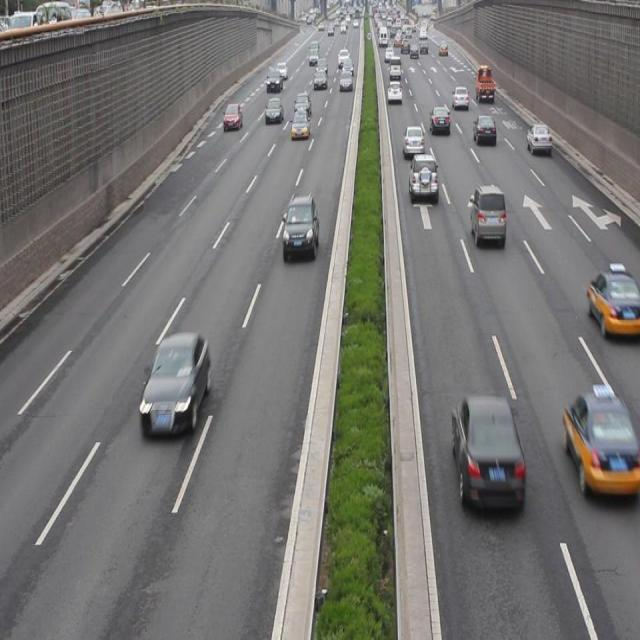car: (564, 385, 640, 493), (451, 395, 521, 512), (139, 332, 211, 442), (587, 262, 640, 339), (285, 195, 319, 253), (408, 156, 436, 203), (526, 124, 550, 153), (402, 125, 422, 159), (472, 116, 496, 144), (289, 108, 309, 140), (428, 107, 448, 135), (223, 102, 240, 128)
truck: (467, 183, 504, 242)
